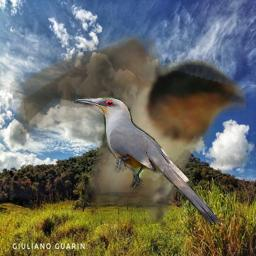Cuckoo: (74, 96, 225, 229)
Swallow: (10, 34, 246, 224)
